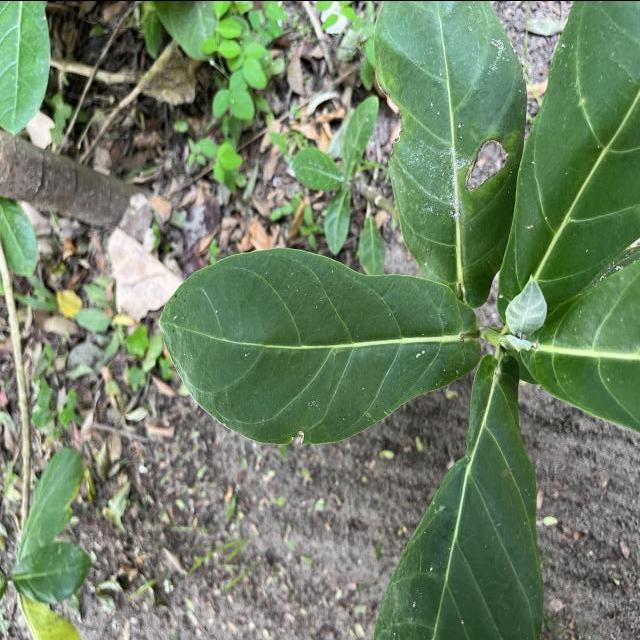Calotropis gigantea: (155, 245, 483, 448), (368, 351, 547, 640), (370, 0, 530, 310), (510, 0, 640, 312)
